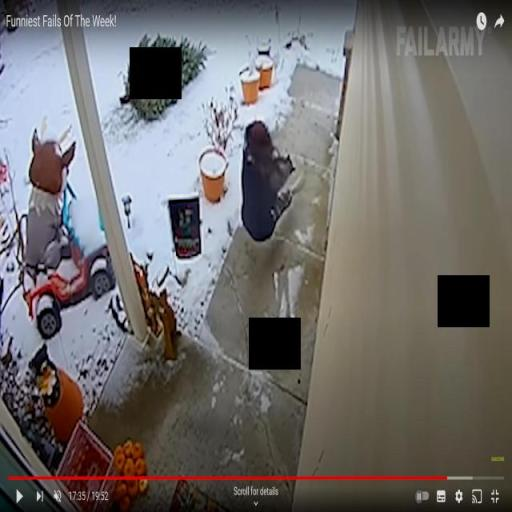Fall: (240, 116, 309, 246)
